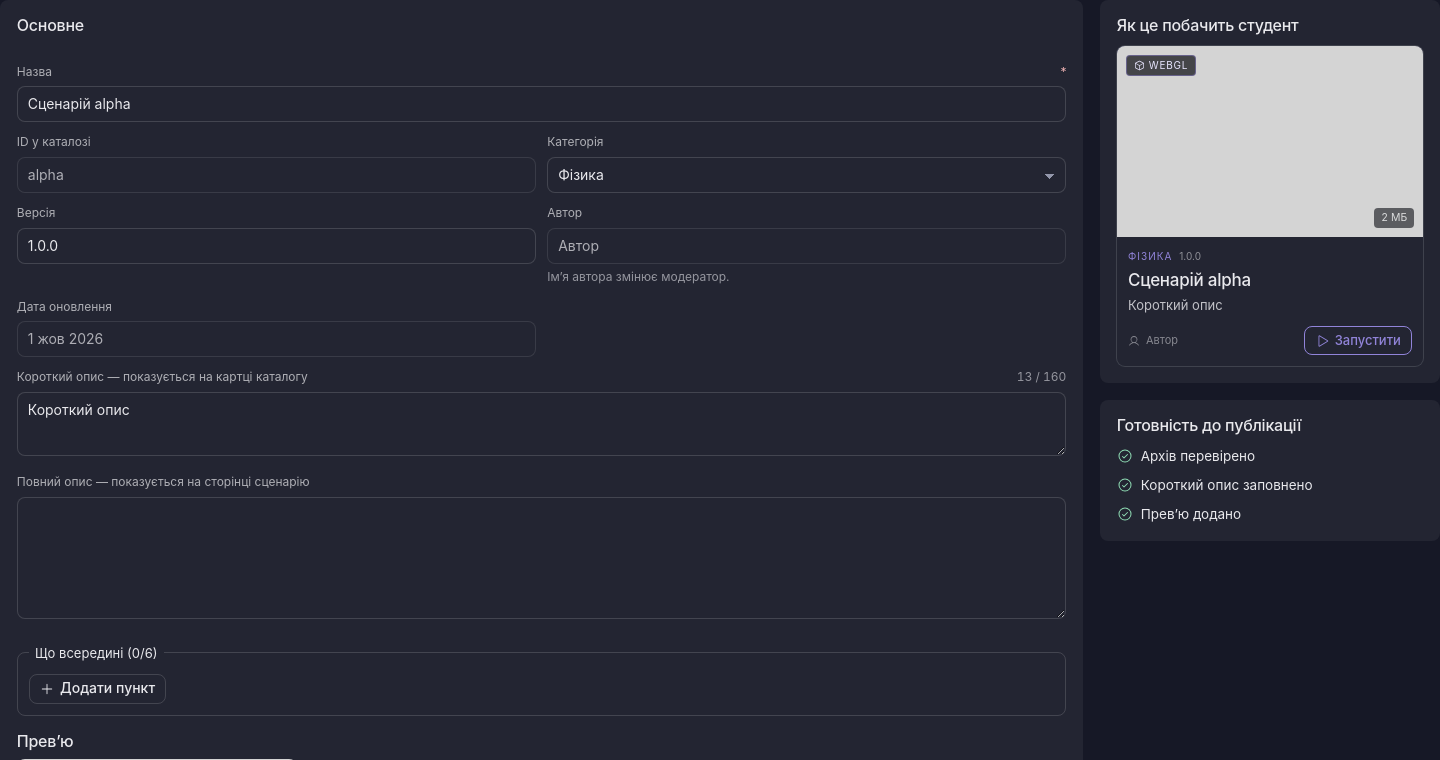
ScenarioMetaFormComponent › the live card (DW-5.3) › follows typing before anything is saved
Replace the text in the field with id "meta-title" with "Нова назва картки" at (542, 104), box [17,86,1066,122]
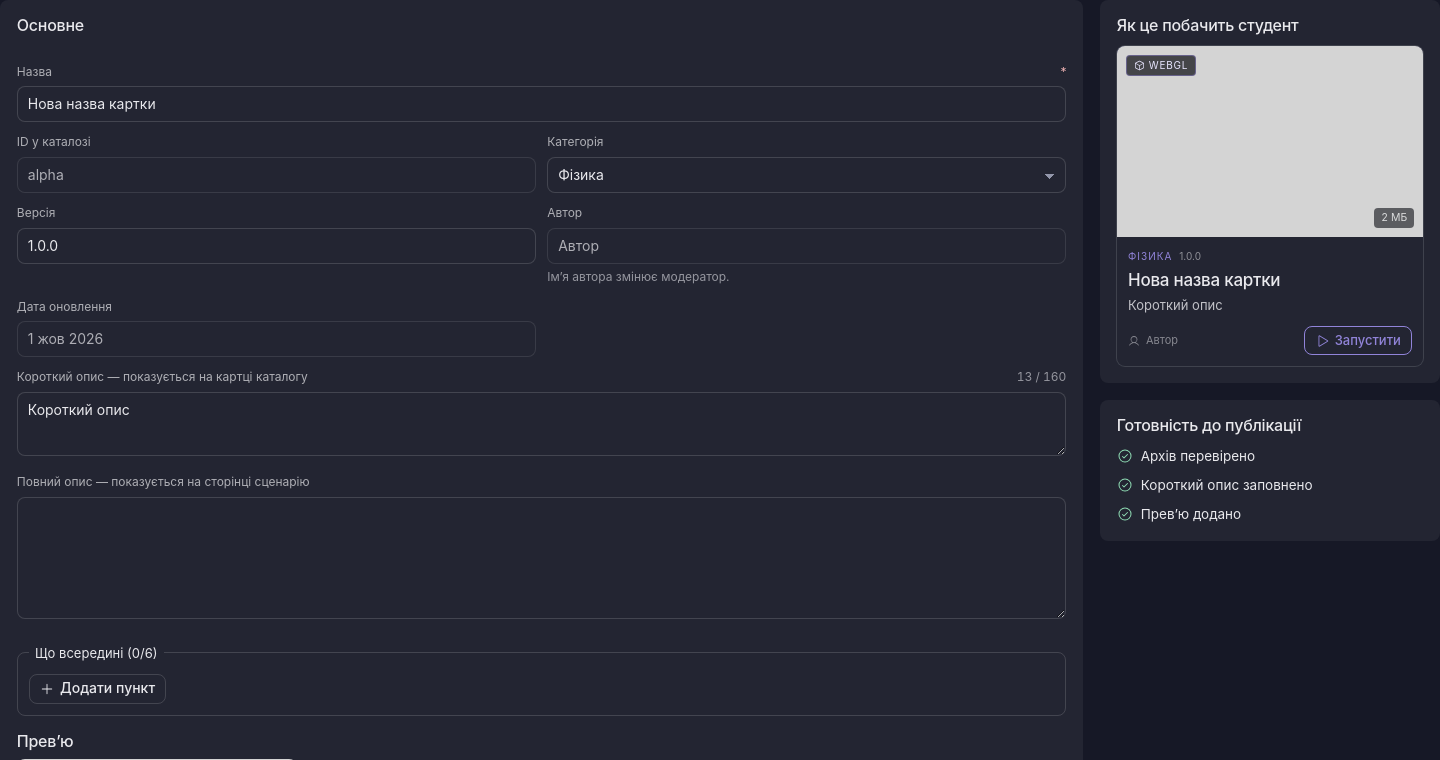
Replace the text in the text box with id "meta-description" with "Новий опис картки" at (542, 424), box [17,392,1066,456]
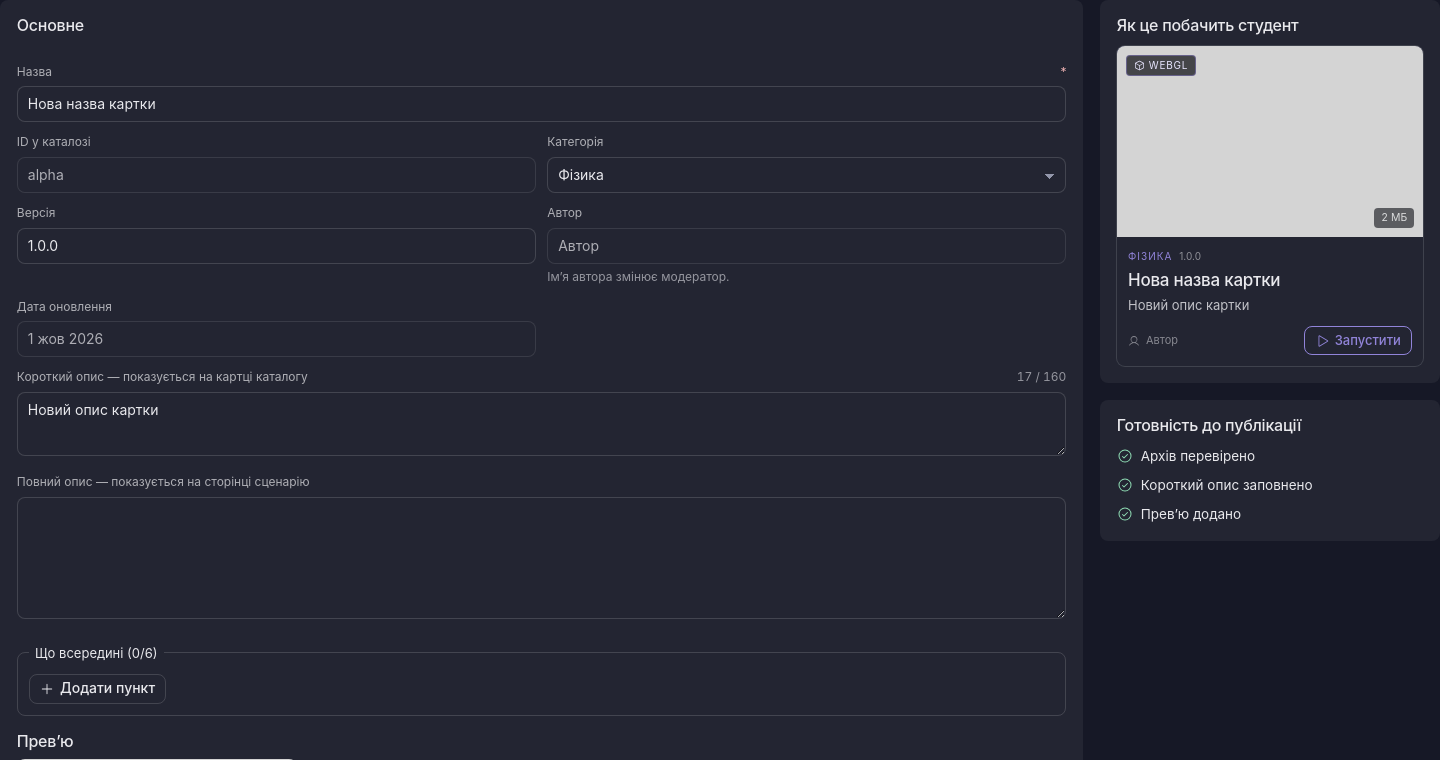
Check: the button "Нова назва картки" is shown, box [1128,270,1280,290]
Check: the text with class "description" reads "Новий опис картки", box [1128,297,1249,313]
